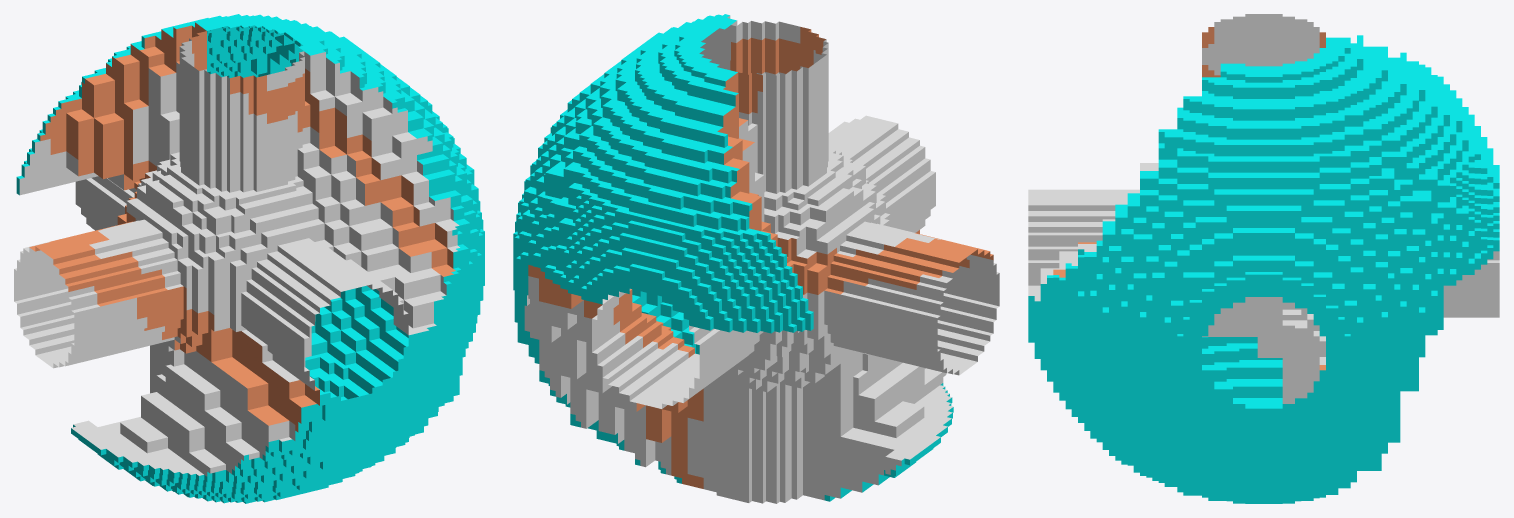
The model's file is Mine4-0.obj.
The picture shows the model from 3 angles, left to right: view 1: azimuth 30°, elevation 25°; view 2: azimuth 150°, elevation 25°; view 3: azimuth 270°, elevation 25°; orthographic projection. The views are drawn at different scales.
Bounding box in the file's own units: 7.6 × 7.6 × 7.6.
